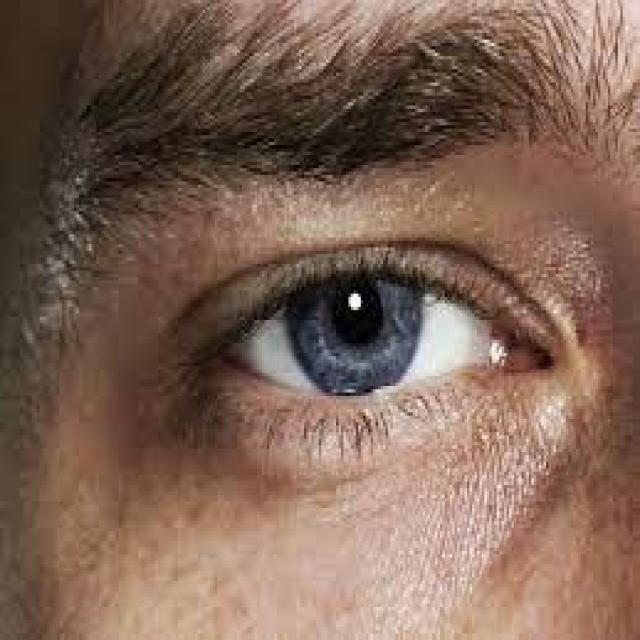Normal: (127, 169, 636, 537)
